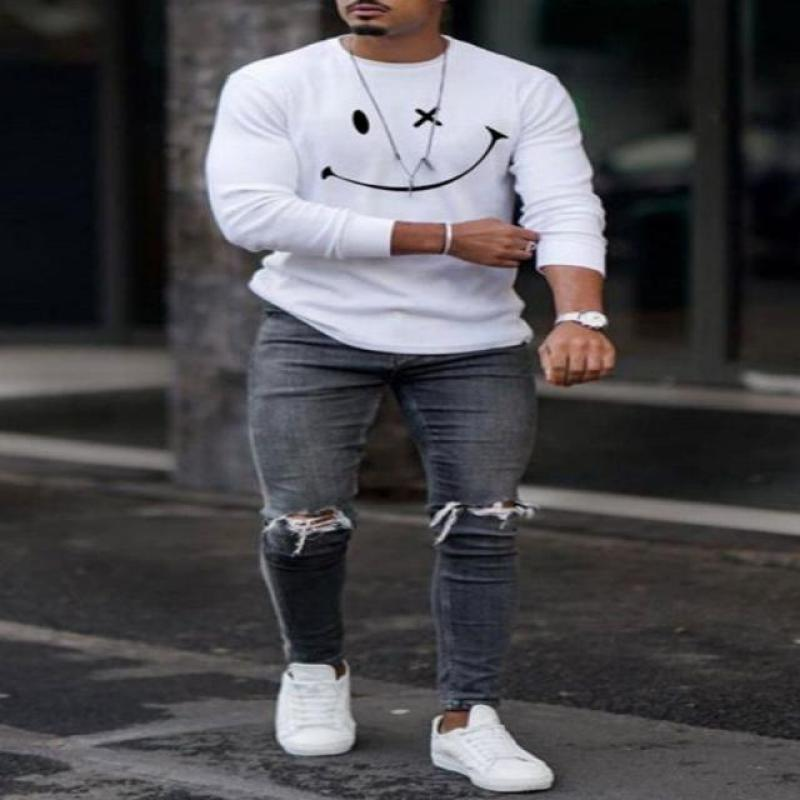sweater: (206, 32, 618, 366)
trousers: (245, 297, 542, 716)
